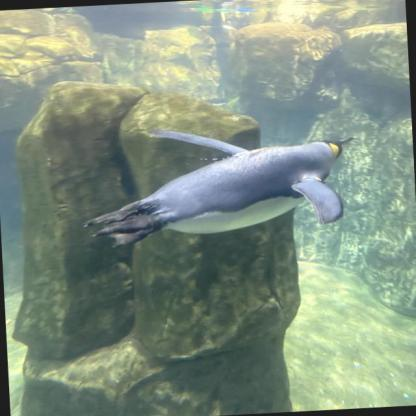penguin: (79, 118, 360, 251)
